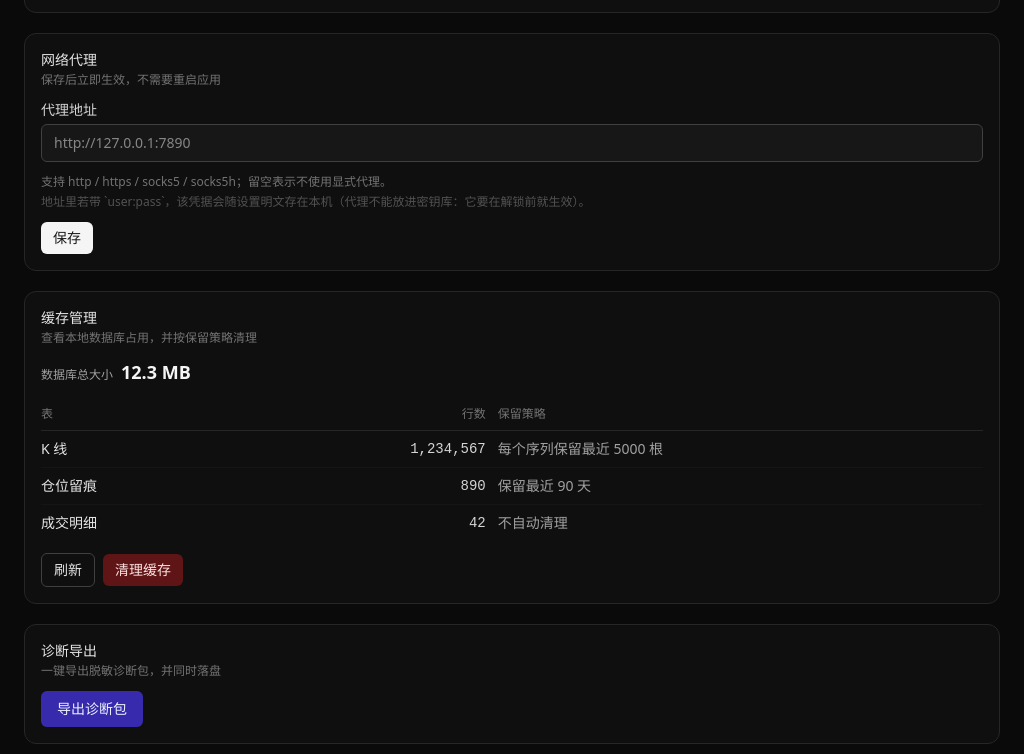
Test: SettingsPage 缓存管理 › bytes_before === bytes_after 时如实说明，不编造释放量
(page scrolled)
Click the button "清理缓存": (143, 570) [103,554,183,586]
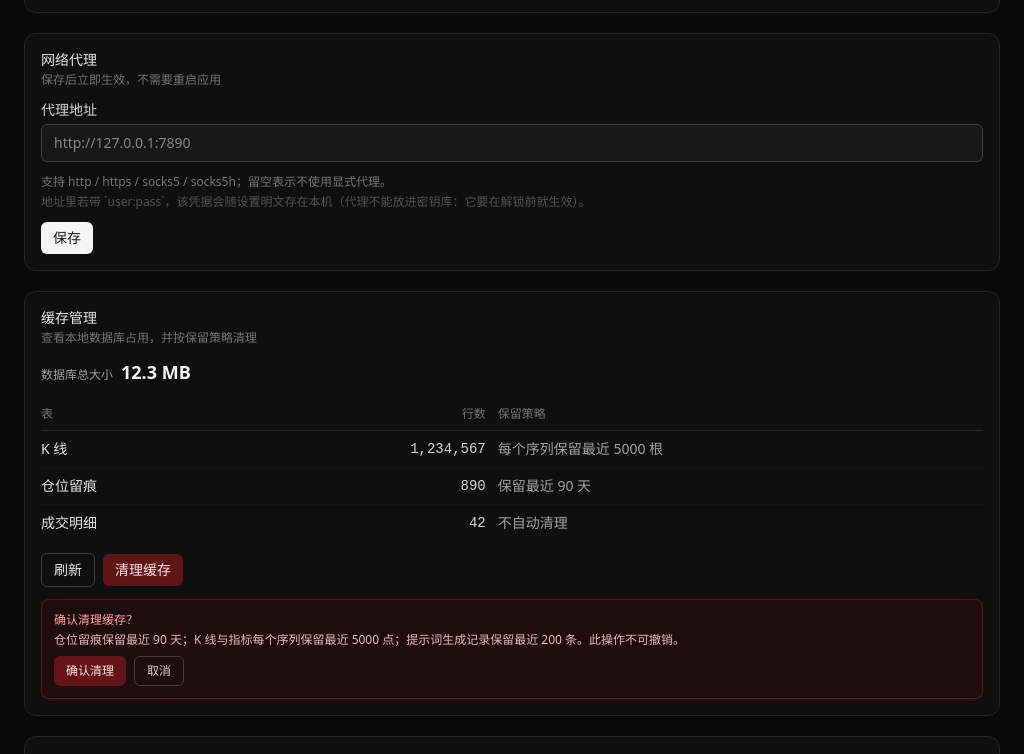
Click the button "确认清理": (90, 671) [54,656,126,686]
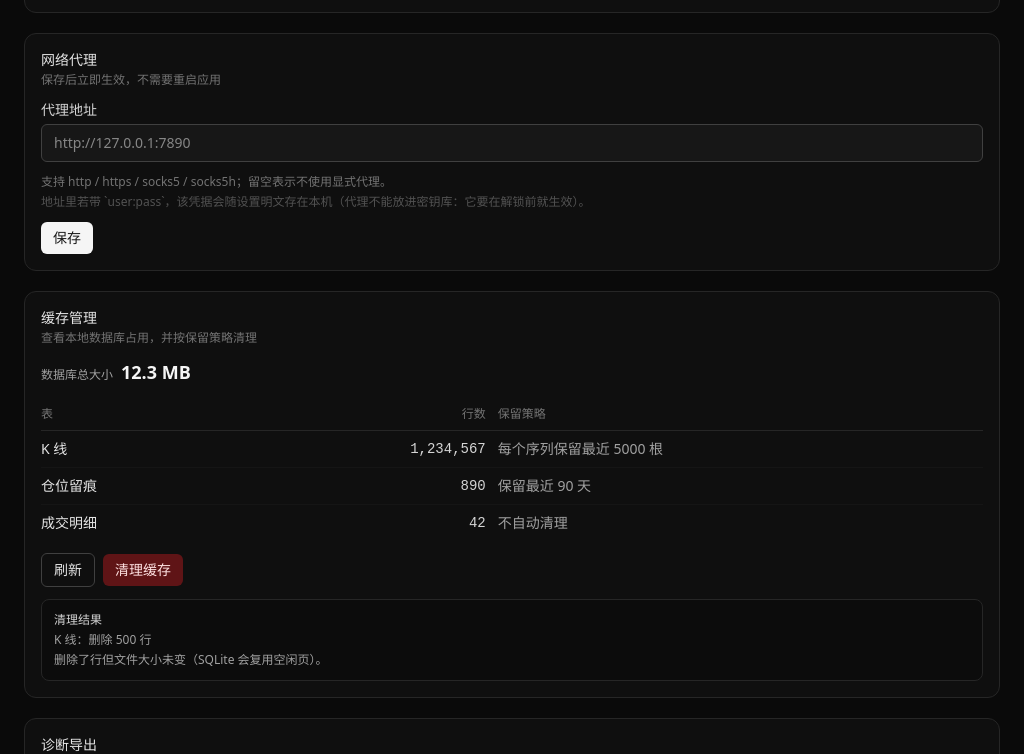
Now the text "删除了行但文件大小未变（SQLite 会复用空闲页）。" is shown, box [54,651,328,668]
